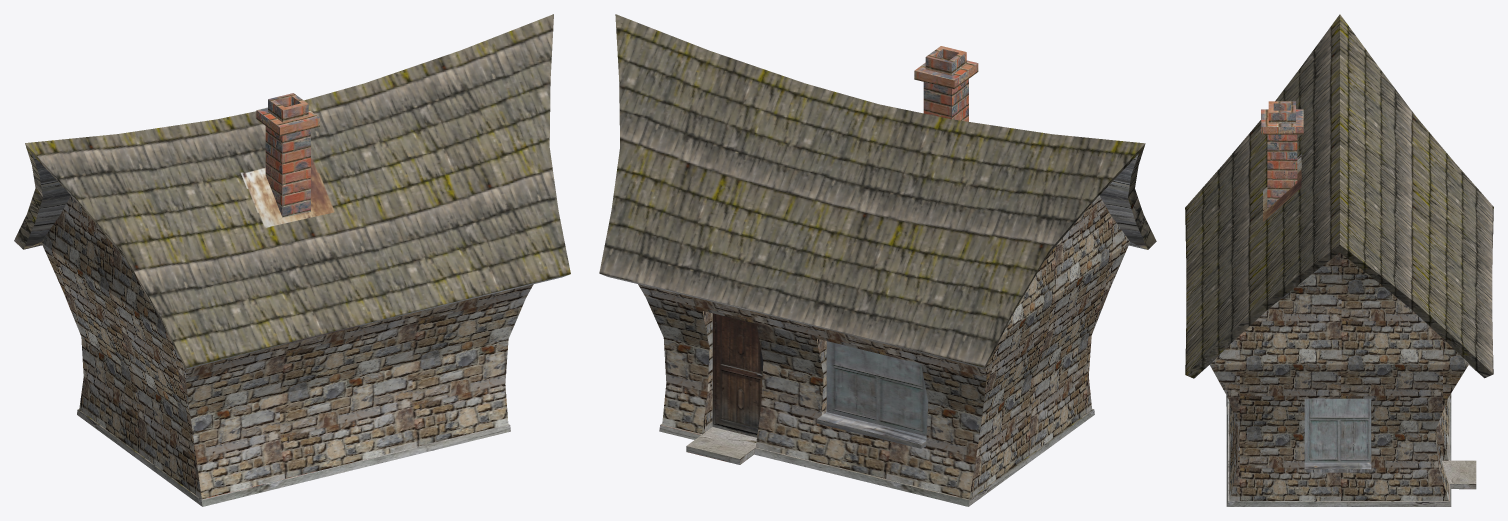
File: House.fbx
The picture shows the model from 3 angles, left to right: view 1: azimuth 30°, elevation 25°; view 2: azimuth 150°, elevation 25°; view 3: azimuth 270°, elevation 25°; orthographic projection. The views are drawn at different scales.
Visible parts, largest first — view 1: House; view 2: House; view 3: House.
Part boxes in pixels (left/top/right/bottom): House: left=14, top=14, right=570, bottom=506; House: left=599, top=14, right=1156, bottom=506; House: left=1185, top=14, right=1493, bottom=506.
Bounding box in the file's own units: 4.35 × 4.92 × 7.69.
Materials: 1 (1 with a texture image).
